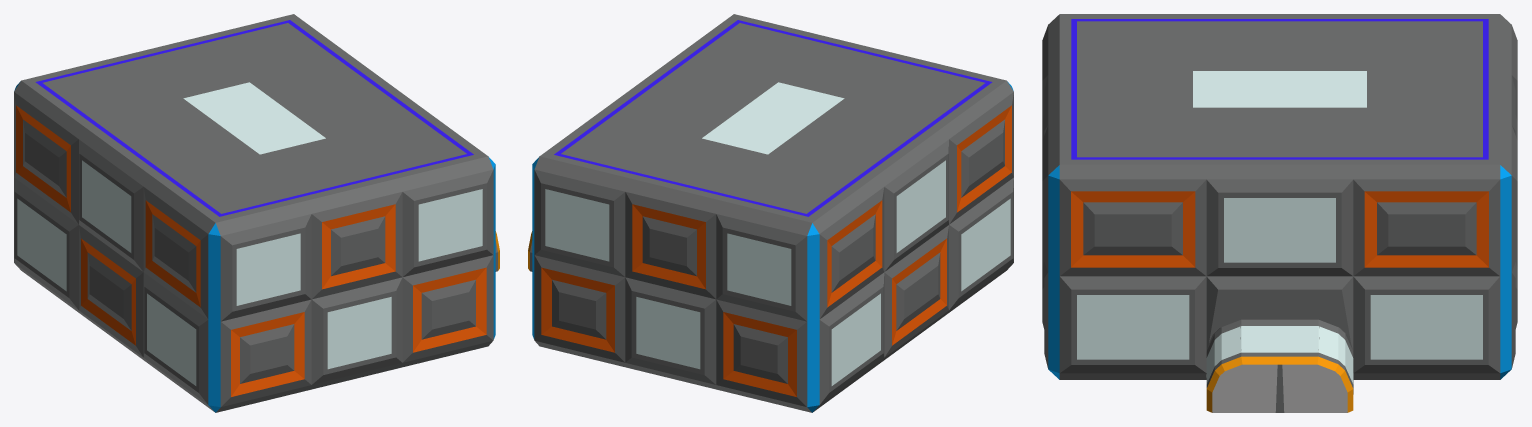
File: Residential_B.fbx
3 renders of one model, left to right at view 1: azimuth 30°, elevation 25°; view 2: azimuth 150°, elevation 25°; view 3: azimuth 270°, elevation 25°, orthographic. The views are drawn at different scales.
Visible parts, largest first — view 1: Cube, Cube.001; view 2: Cube, Cube.001; view 3: Cube, Cube.001.
Part boxes in pixels (<box>): Cube: <box>14,14,499,412</box>; Cube.001: <box>17,82,482,385</box>; Cube: <box>528,14,1013,412</box>; Cube.001: <box>545,82,1010,385</box>; Cube: <box>1042,14,1517,412</box>; Cube.001: <box>1077,71,1482,383</box>.
Size of the model in its own units: 2 by 1 by 2.
